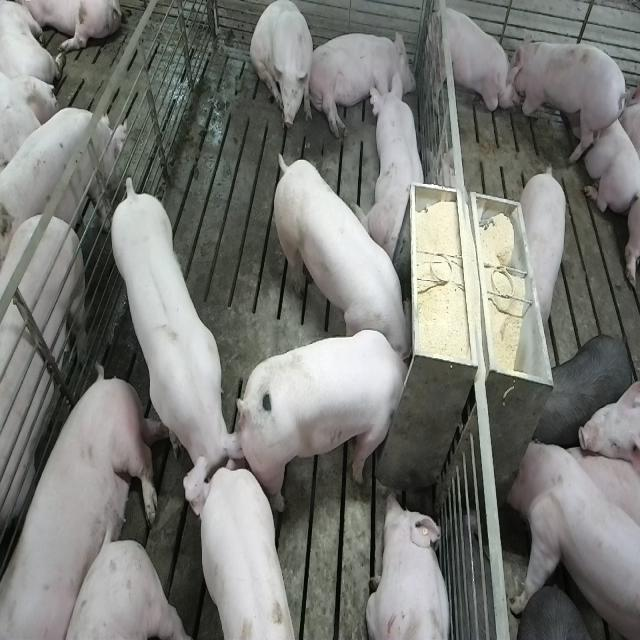Feeding: (243, 328, 419, 514), (269, 145, 411, 360)
Lateral_lying: (3, 366, 159, 640), (307, 27, 417, 140)
Sitting: (422, 0, 514, 124), (250, 3, 315, 137)
Standing: (108, 175, 245, 517), (0, 206, 88, 599), (506, 438, 639, 640), (190, 464, 302, 640), (0, 102, 124, 257), (509, 27, 627, 165), (536, 331, 635, 448), (520, 160, 572, 324)
Sternal_lying: (360, 74, 431, 260), (366, 490, 453, 640), (571, 80, 639, 212)
